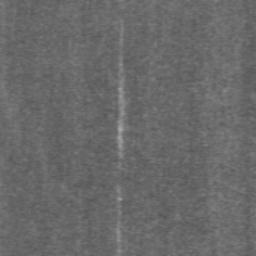Bright scratch: (117, 60, 124, 159), (117, 187, 122, 256)
